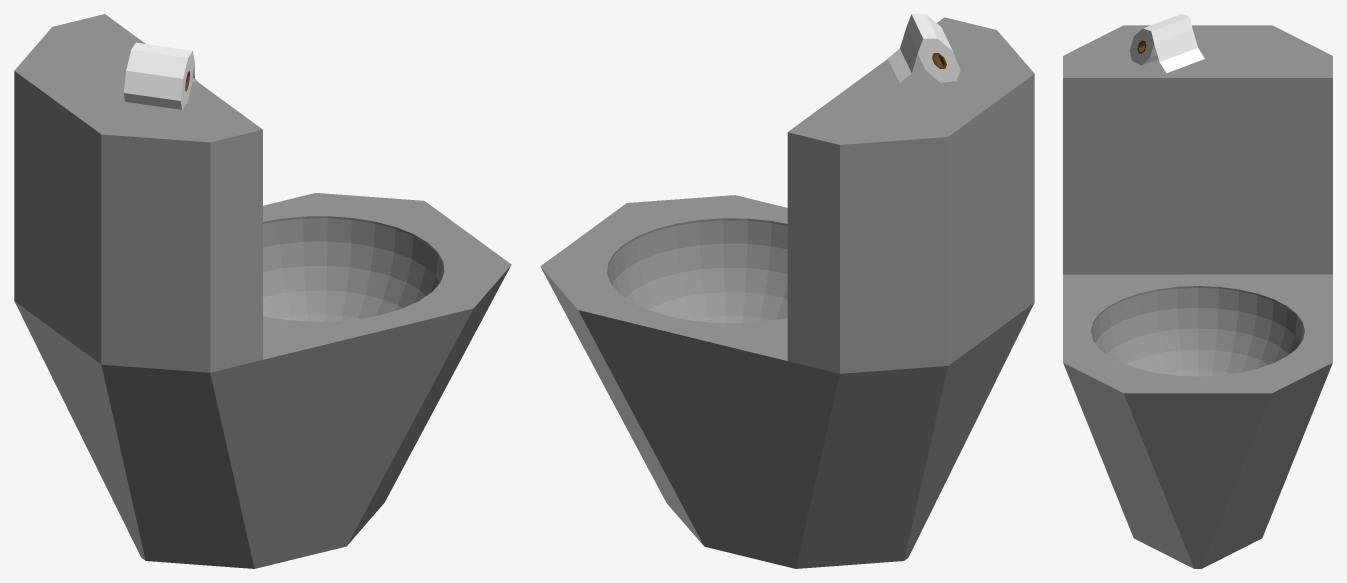
The picture shows the model from 3 angles, left to right: view 1: azimuth 30°, elevation 25°; view 2: azimuth 150°, elevation 25°; view 3: azimuth 270°, elevation 25°; orthographic projection. The views are drawn at different scales.
Parts seen in each view (by area): view 1: Cube; view 2: Cube; view 3: Cube.
Boxes of the visible parts, x1,y1,x2,y2 form: Cube: [14, 14, 511, 568]; Cube: [540, 14, 1034, 568]; Cube: [1063, 14, 1332, 568].
Bounding box in the file's own units: 100 × 150 × 183.
